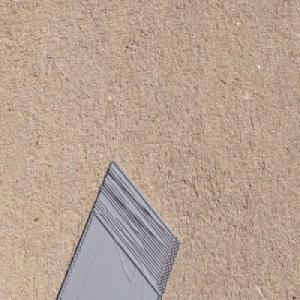PlasticPart: (55, 158, 182, 300)
